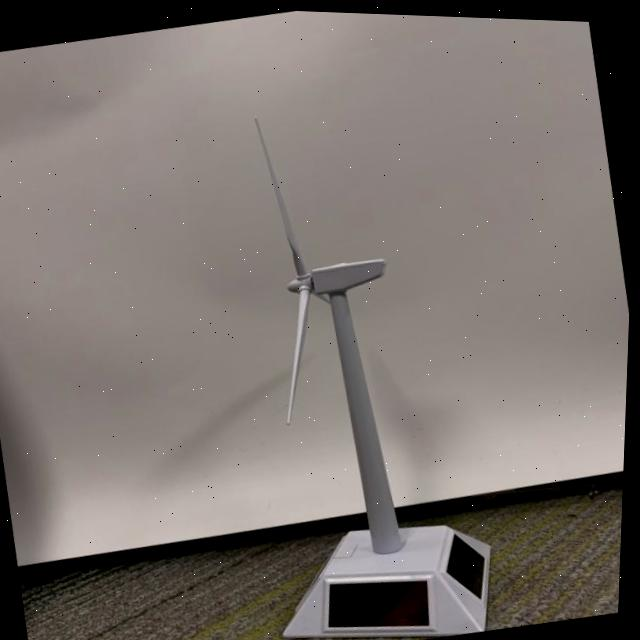solid-blade: (256, 114, 309, 274), (290, 280, 314, 421)
